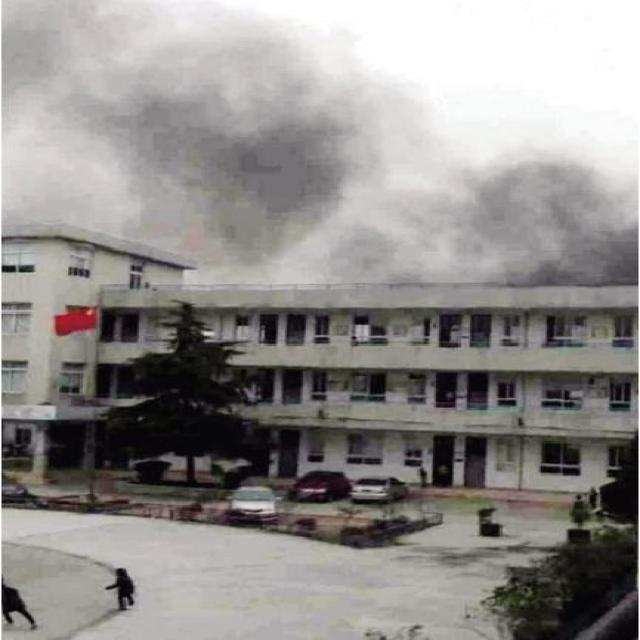Smoke: (6, 0, 374, 288), (376, 147, 640, 284)
